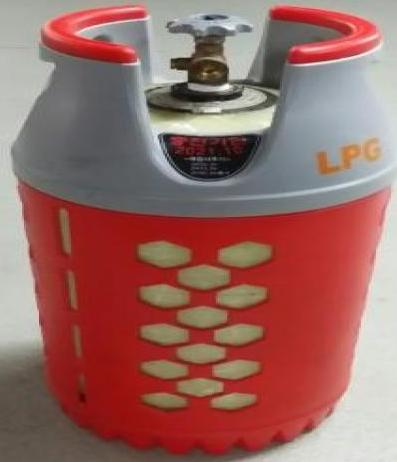cylinder: (1, 1, 397, 462)
